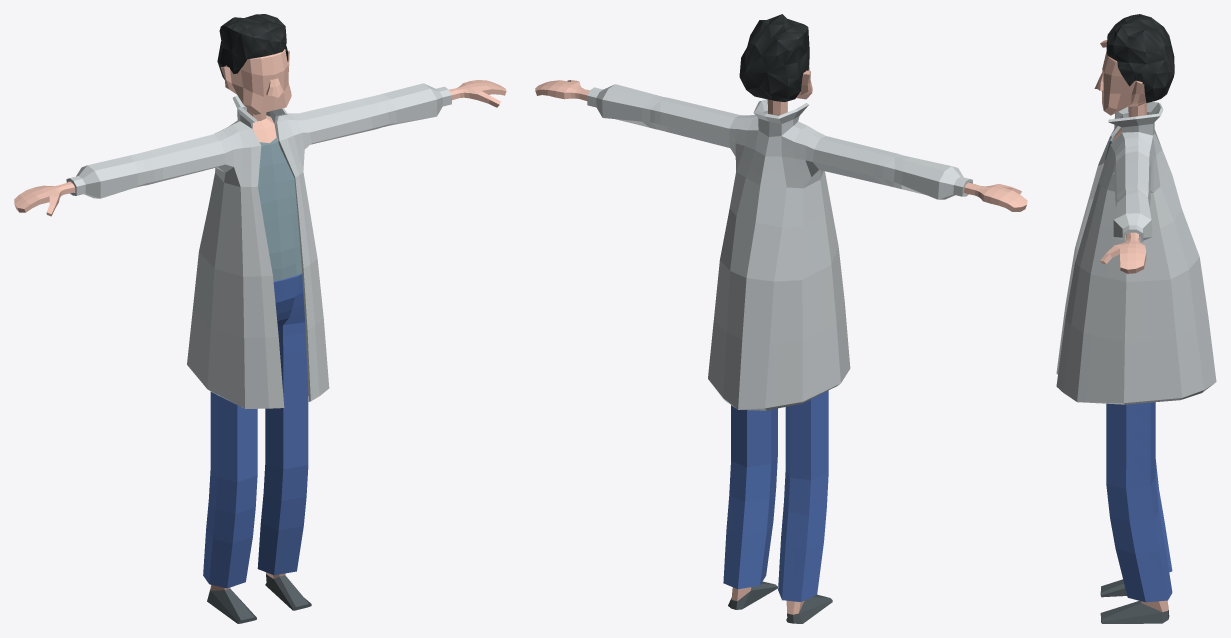
Rendered from laborant_8.fbx.
3 renders of one model, left to right at view 1: azimuth 30°, elevation 25°; view 2: azimuth 150°, elevation 25°; view 3: azimuth 270°, elevation 25°, orthographic.
Parts seen in each view (by area): view 1: laborant.008; view 2: laborant.008; view 3: laborant.008.
Part boxes in pixels (x1,y1,x2,y2): laborant.008: [14, 14, 506, 623]; laborant.008: [535, 14, 1027, 623]; laborant.008: [1056, 14, 1216, 623].
Size of the model in its own units: 148 by 170 by 42.3.
